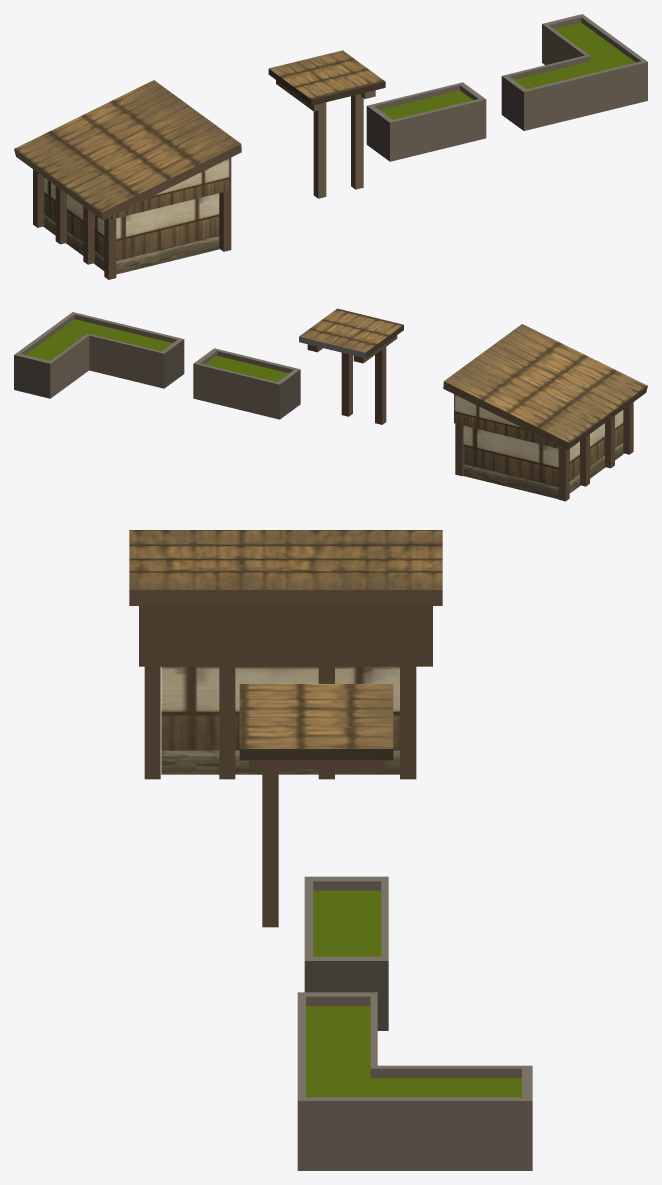
File: x_ZaWu_01.FBX
3 renders of one model, top to bottom at view 1: azimuth 30°, elevation 25°; view 2: azimuth 150°, elevation 25°; view 3: azimuth 270°, elevation 25°, orthographic. The views are drawn at different scales.
Parts seen in each view (by area): view 1: x_FangWuChaiFen_07, x_FangWuChaiFen_19, x_FangWuChaiFen_18, x_FangWuChaiFen_21; view 2: x_FangWuChaiFen_07, x_FangWuChaiFen_19, x_FangWuChaiFen_18, x_FangWuChaiFen_21; view 3: x_FangWuChaiFen_07, x_FangWuChaiFen_19, x_FangWuChaiFen_21, x_FangWuChaiFen_18.
Boxes of the visible parts, x1=… form: x_FangWuChaiFen_07: x1=14, y1=80, x2=241, y2=279; x_FangWuChaiFen_19: x1=501, y1=14, x2=647, y2=130; x_FangWuChaiFen_18: x1=366, y1=82, x2=486, y2=161; x_FangWuChaiFen_21: x1=268, y1=50, x2=385, y2=198; x_FangWuChaiFen_07: x1=443, y1=324, x2=647, y2=501; x_FangWuChaiFen_19: x1=14, y1=312, x2=184, y2=398; x_FangWuChaiFen_18: x1=193, y1=348, x2=300, y2=419; x_FangWuChaiFen_21: x1=299, y1=308, x2=403, y2=424; x_FangWuChaiFen_07: x1=129, y1=530, x2=442, y2=779; x_FangWuChaiFen_19: x1=297, y1=992, x2=532, y2=1170; x_FangWuChaiFen_21: x1=239, y1=684, x2=393, y2=927; x_FangWuChaiFen_18: x1=304, y1=876, x2=388, y2=1030.
Size of the model in its own units: 1281 by 227 by 420.
